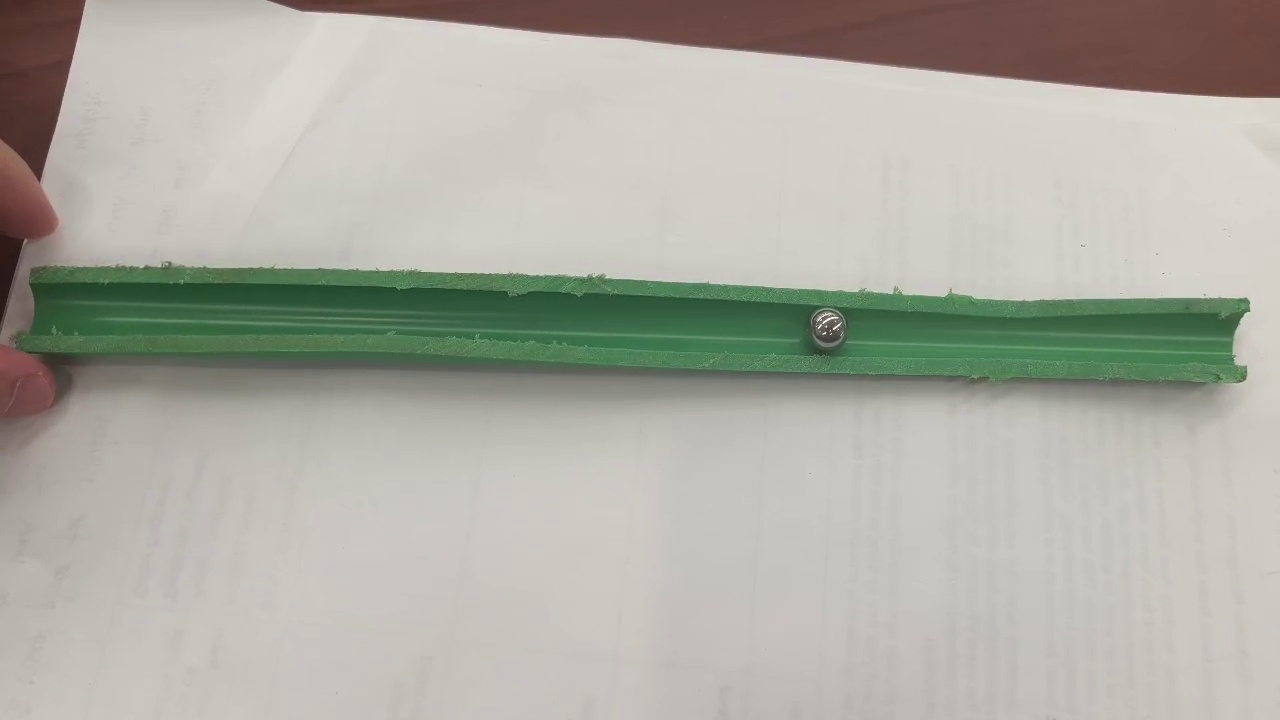ball: (811, 311, 846, 349)
